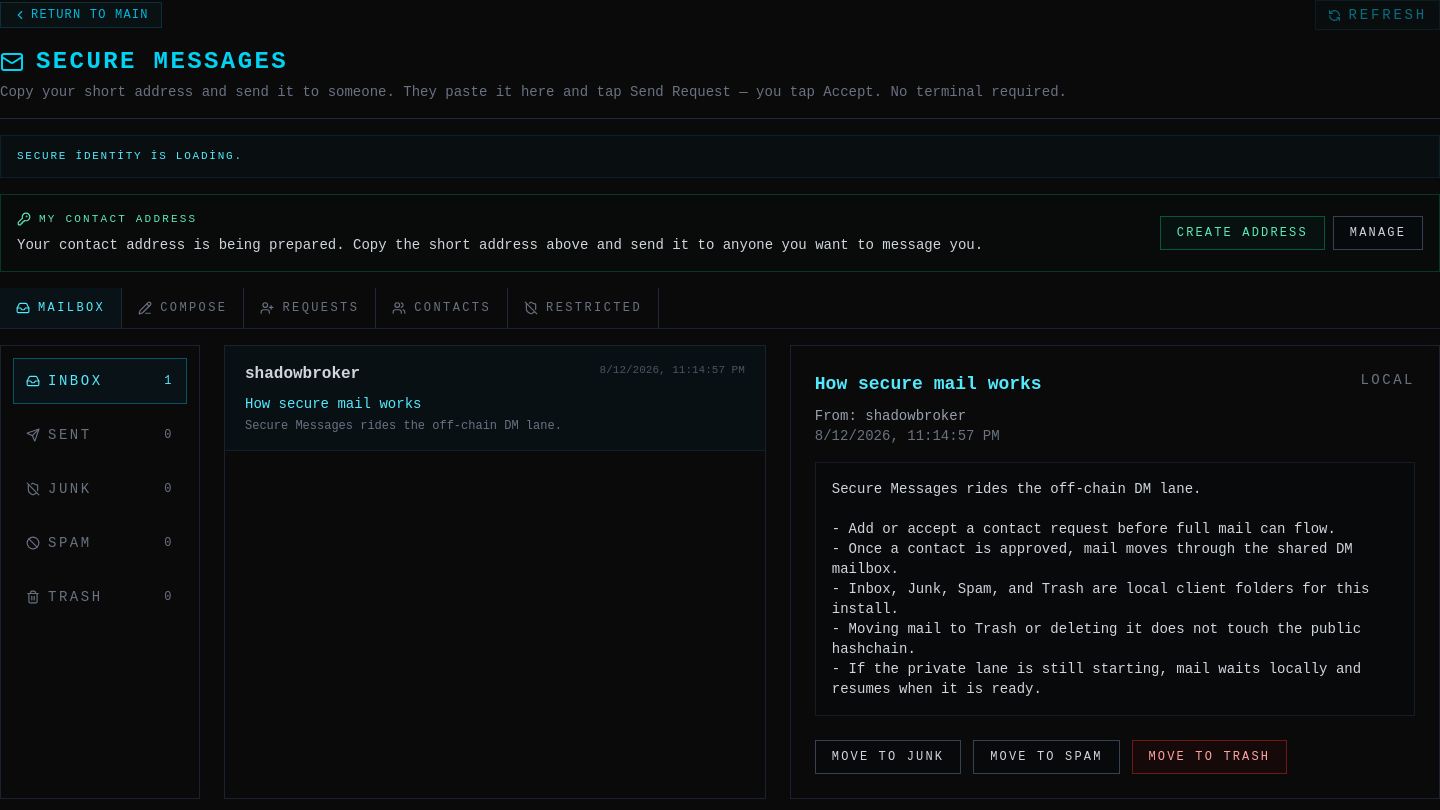
Test case: MessagesView first-contact trust UX › repairs the local sending key before sending instead of surfacing backend key jargon
Click the button "COMPOSE".
click(183, 308)  # box 122,288 -> 244,328
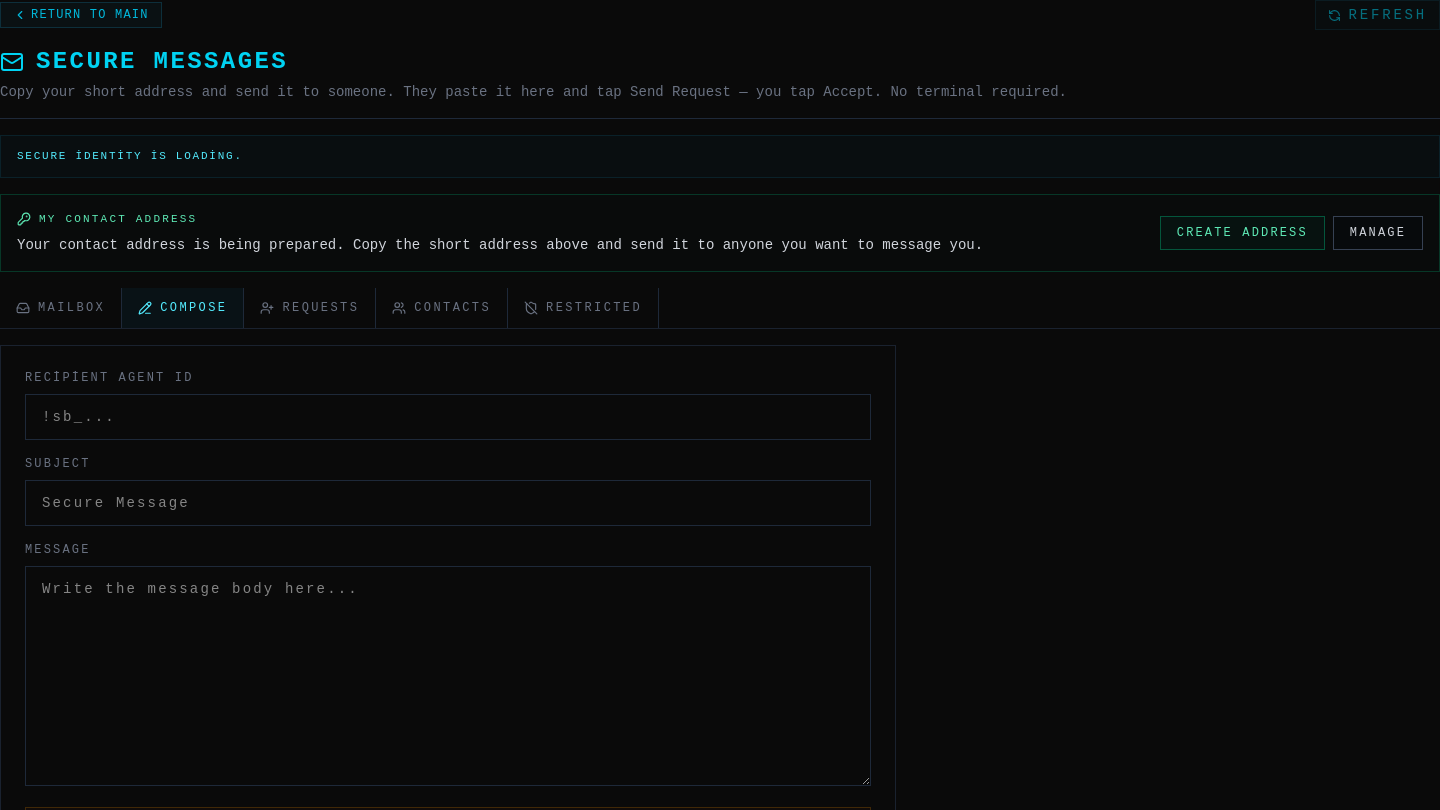
Type "!sb_pinned" into the field labelled "Recipient agent ID".
click(448, 417); type("!sb_pinned")  # box 25,394 -> 871,440
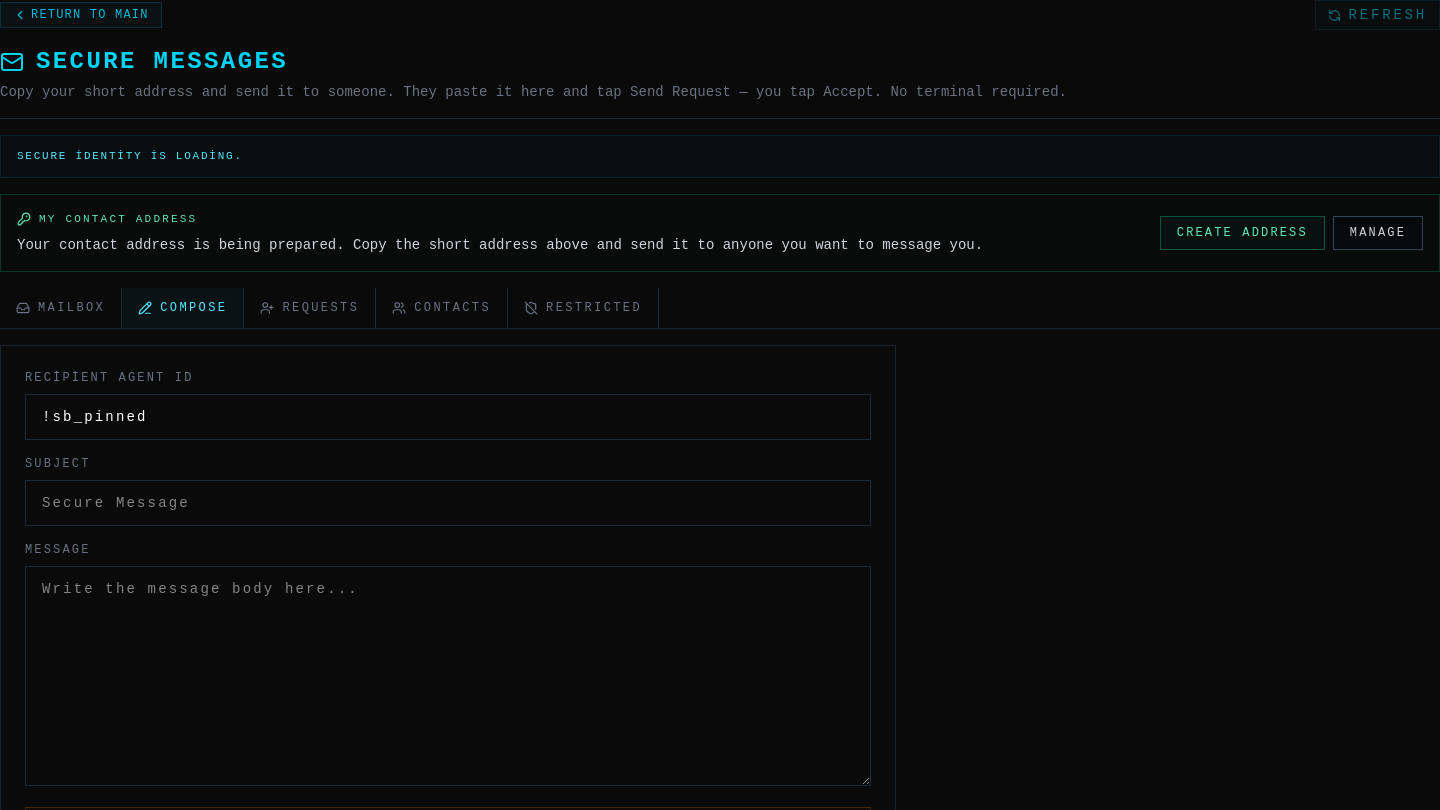
Type "hello after repair" into the text box labelled "Message".
click(448, 676); type("hello after repair")  # box 25,566 -> 871,786
(page scrolled)
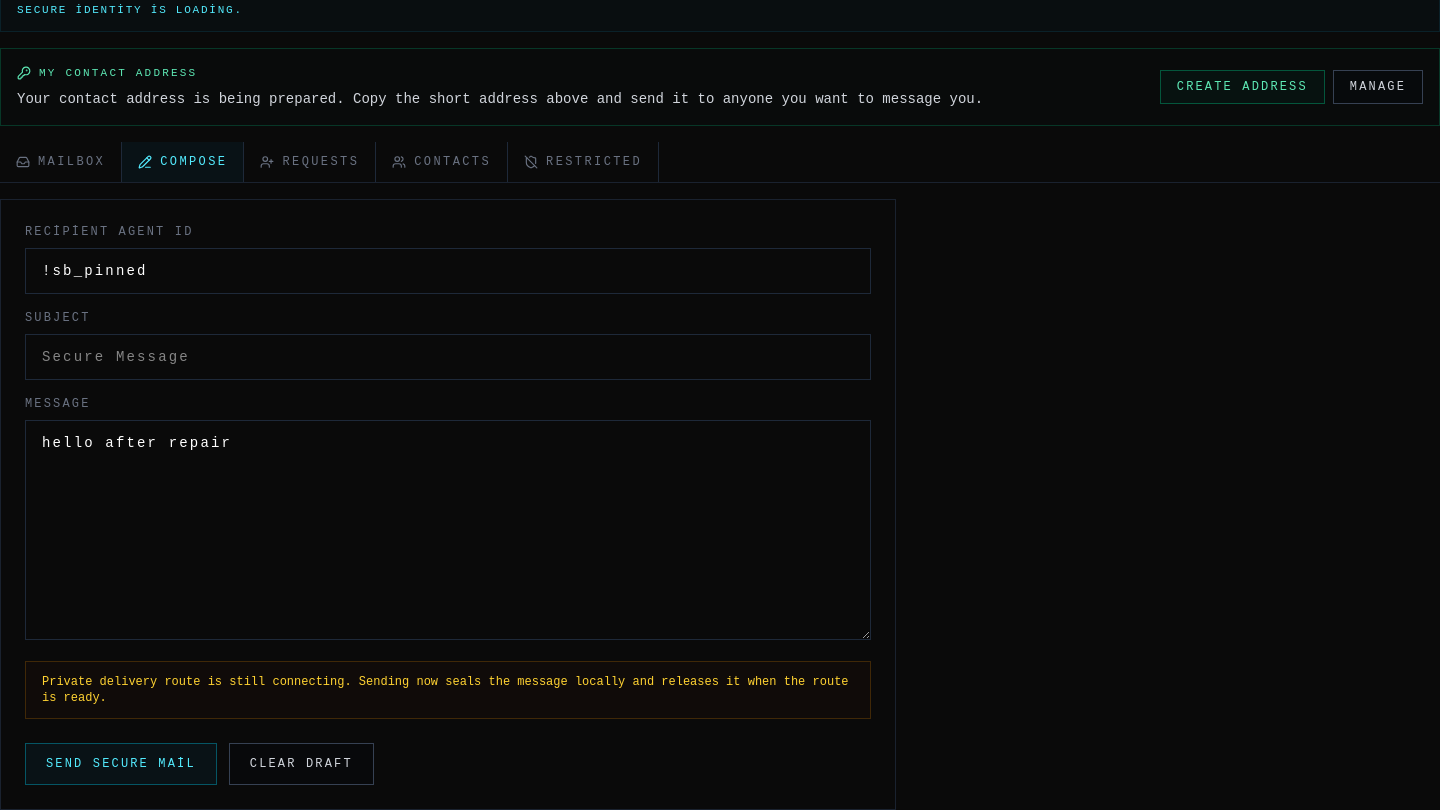
Click the button "Send Secure Mail".
click(121, 764)  # box 25,743 -> 217,785
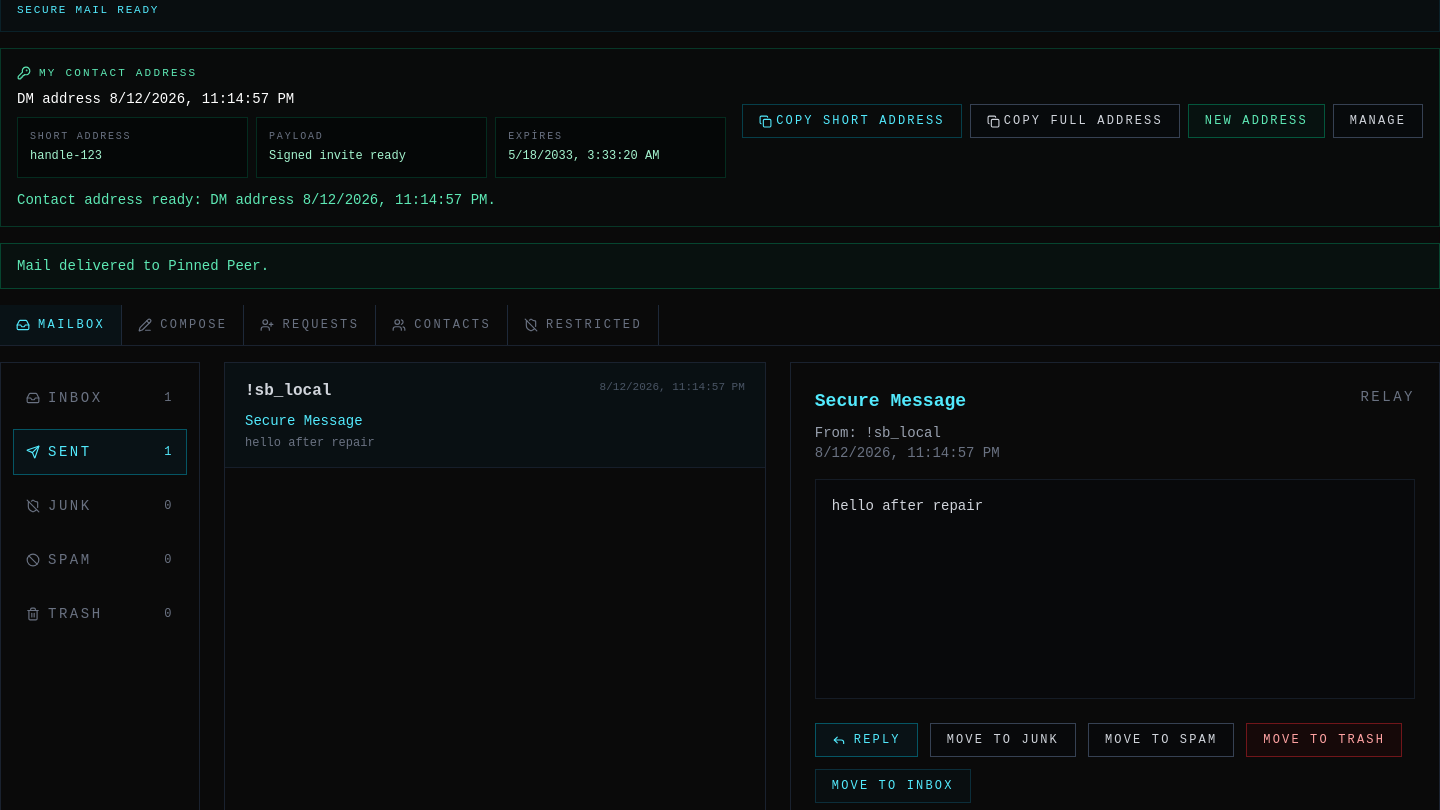
expect the text "Mail delivered to Pinned Peer." is shown: met, box 0,243 -> 1439,289
